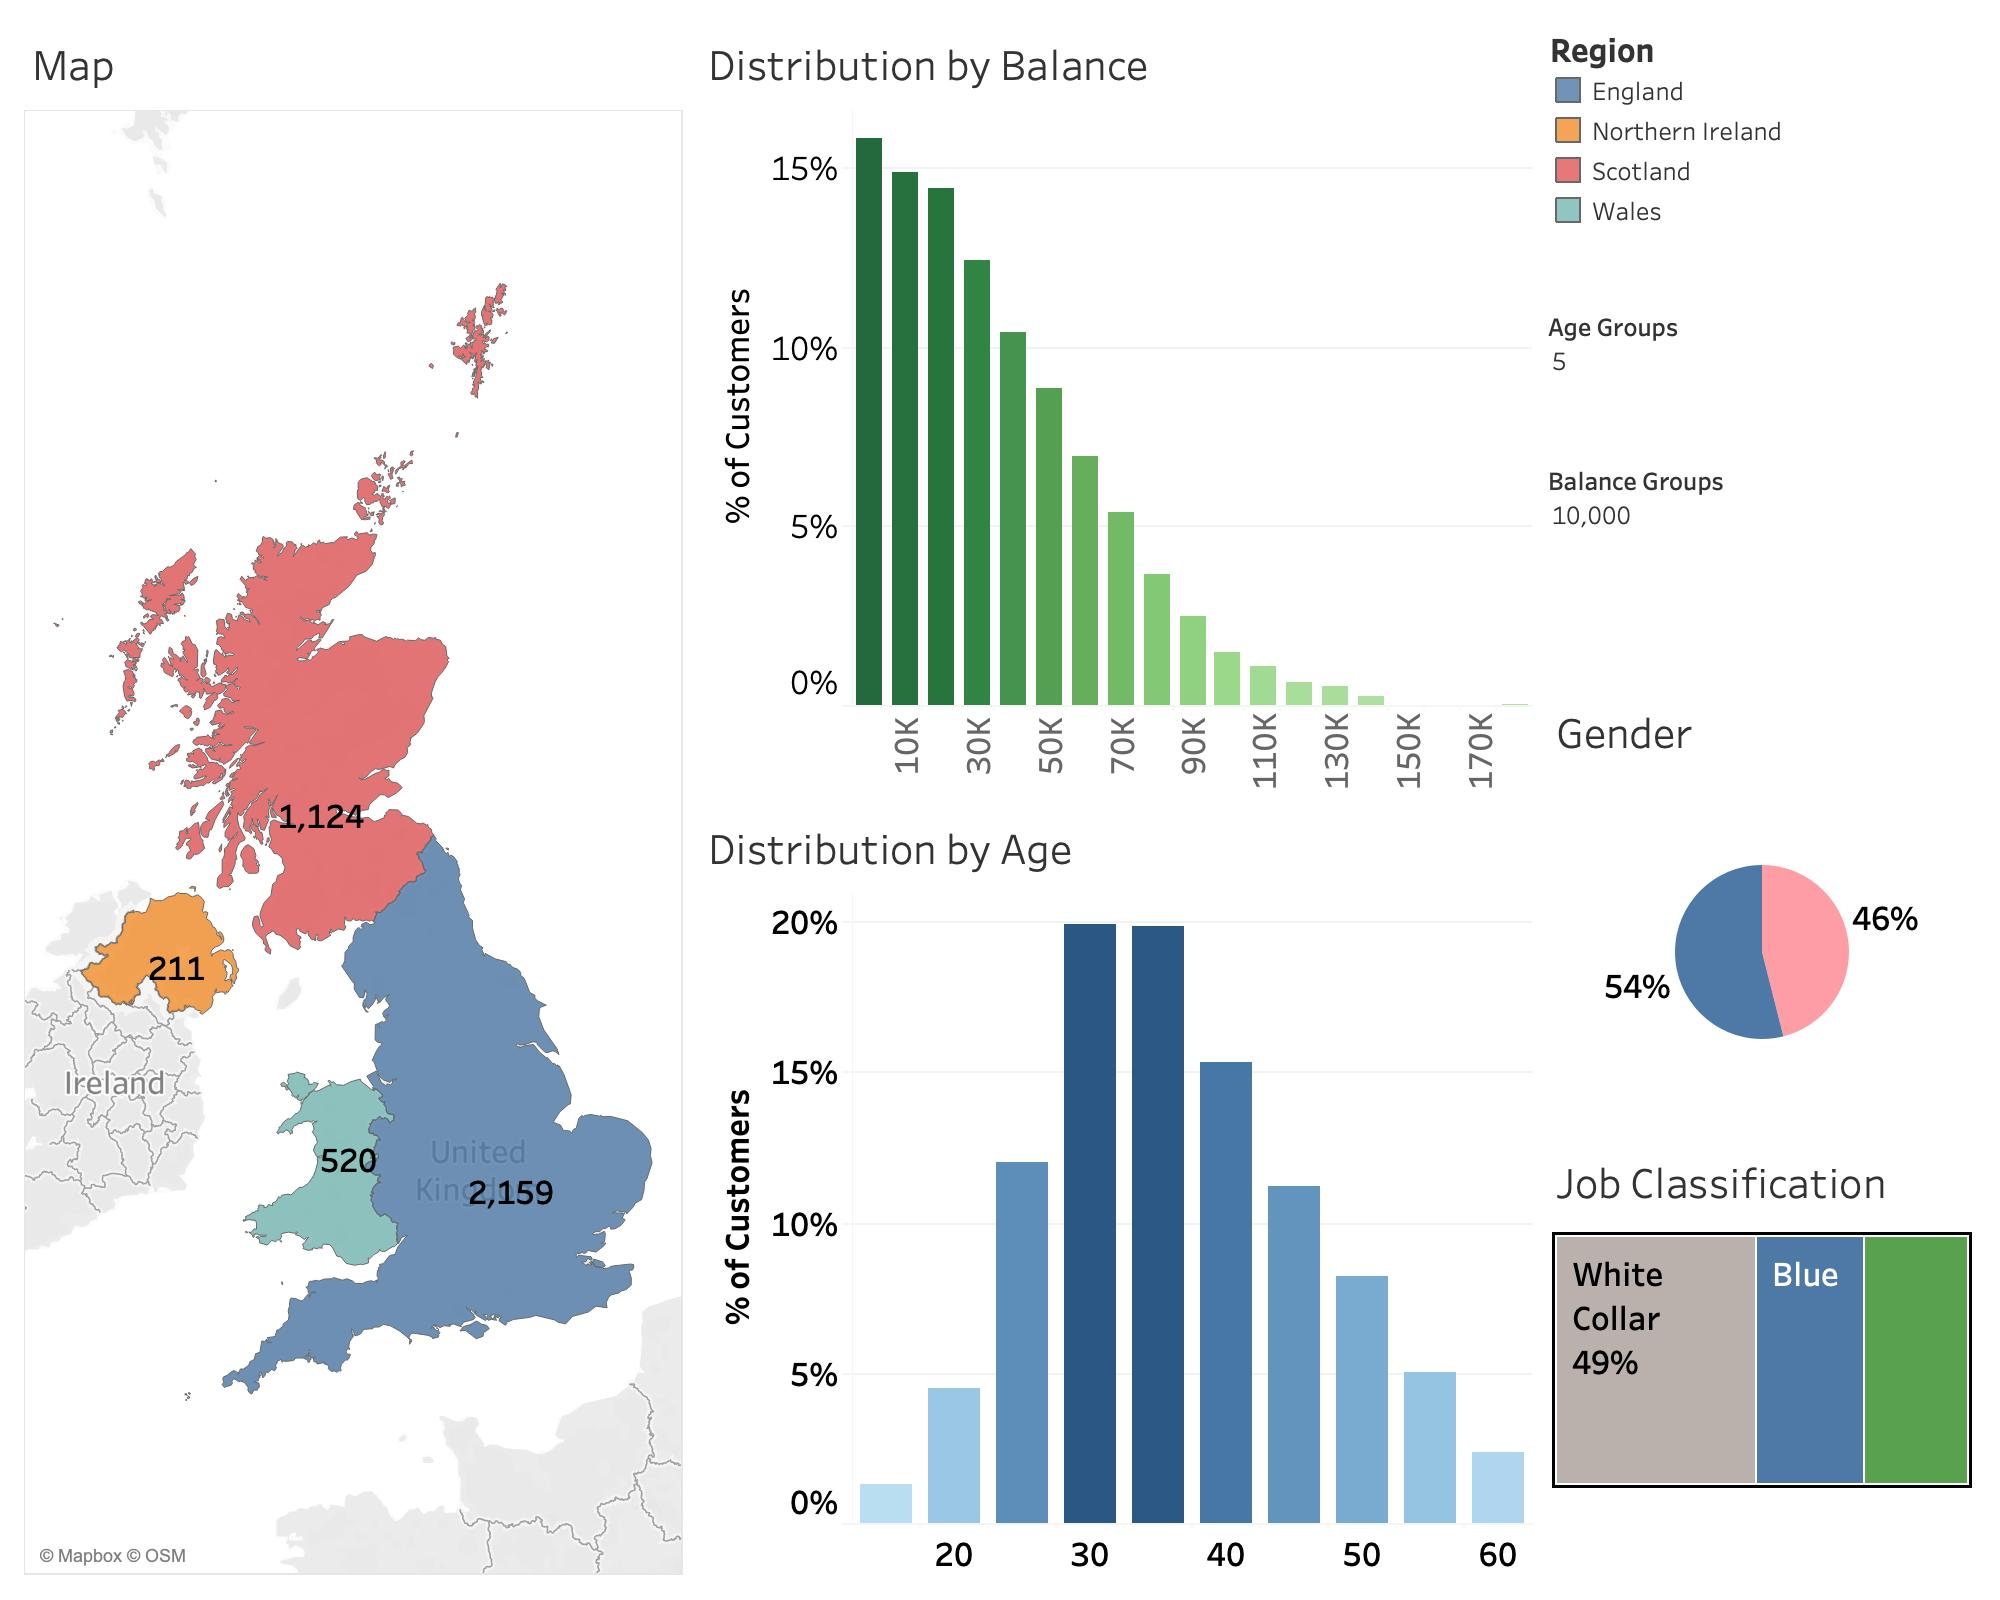

What the dashboard file says about the page in this screenshot:
{"tool":"tableau","page":{"name":"Customer Segmentation Dashboard","canvas":[1000,800],"ordinal":0},"visuals":[{"type":"worksheet","title":"Map","mark":"Multipolygon","box":[8,8,338,784]},{"type":"worksheet","title":"Distribution by Balance","mark":"Automatic","rows":["Number of Records"],"cols":["Balance (bin)"],"box":[346,8,424,392]},{"type":"legend","title":"Map","param":"[federated.1neb1is0u4rftg11r2do61d7kz10].[none:Region:nk]","box":[770,8,222,142]},{"type":"parameter","param":"[Parameters].[Parameter 2]","box":[770,150,222,77]},{"type":"parameter","param":"[Parameters].[Parameter 1]","box":[770,227,222,115]},{"type":"worksheet","title":"Gender","mark":"Pie","box":[770,342,222,225]},{"type":"worksheet","title":"Distribution by Age","mark":"Bar","rows":["Number of Records"],"cols":["Age (bin)"],"box":[346,400,424,392]},{"type":"worksheet","title":"Job Classification","mark":"Automatic","box":[770,567,222,225]}]}

Visuals, with their boxes in screenshot pixels (x1, y1, x2, y2), scaled from the page's 1000x800 canvas onto the 2000x1600 screenshot:
"Map" worksheet (Multipolygon marks): <box>16,16,692,1584</box>
"Distribution by Balance" worksheet: <box>692,16,1540,800</box>
"Map" legend: <box>1540,16,1984,300</box>
parameter: <box>1540,300,1984,454</box>
parameter: <box>1540,454,1984,684</box>
"Gender" worksheet (Pie marks): <box>1540,684,1984,1134</box>
"Distribution by Age" worksheet (Bar marks): <box>692,800,1540,1584</box>
"Job Classification" worksheet: <box>1540,1134,1984,1584</box>
